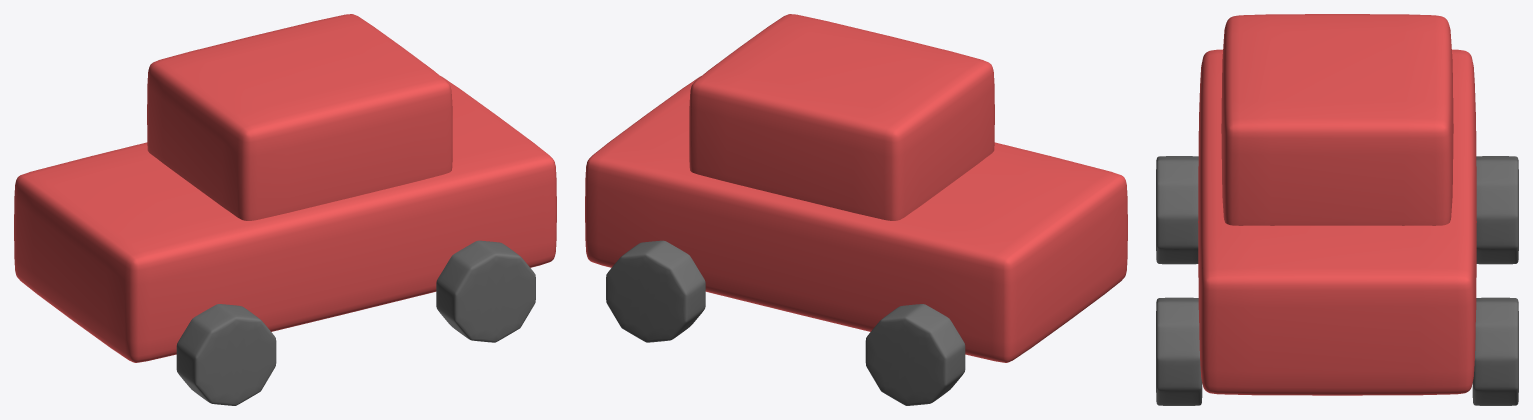
Rendered from toy_car.glb.
The picture shows the model from 3 angles, left to right: view 1: azimuth 30°, elevation 25°; view 2: azimuth 150°, elevation 25°; view 3: azimuth 270°, elevation 25°; orthographic projection. The views are drawn at different scales.
Parts seen in each view (by area): view 1: toy_car; view 2: toy_car; view 3: toy_car.
Boxes of the visible parts, x1=… form: toy_car: x1=14, y1=14, x2=556, y2=405; toy_car: x1=585, y1=14, x2=1127, y2=405; toy_car: x1=1156, y1=14, x2=1518, y2=405.
Bounding box in the file's own units: 0.5994 × 0.3236 × 0.3899.
